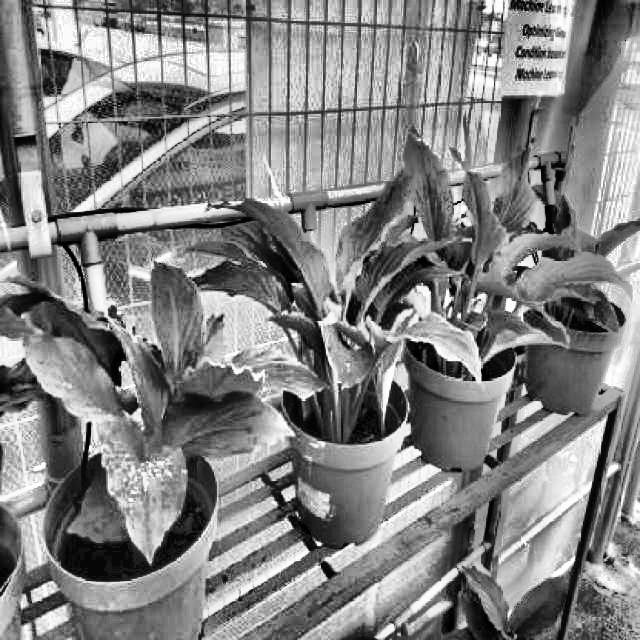plants: (1, 263, 304, 574), (188, 169, 482, 445), (400, 127, 638, 390)
